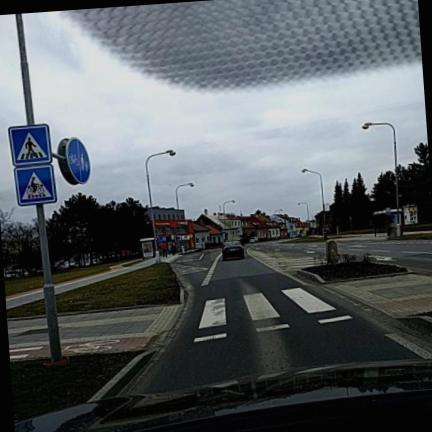Road: (127, 251, 431, 394), (336, 238, 431, 271)
